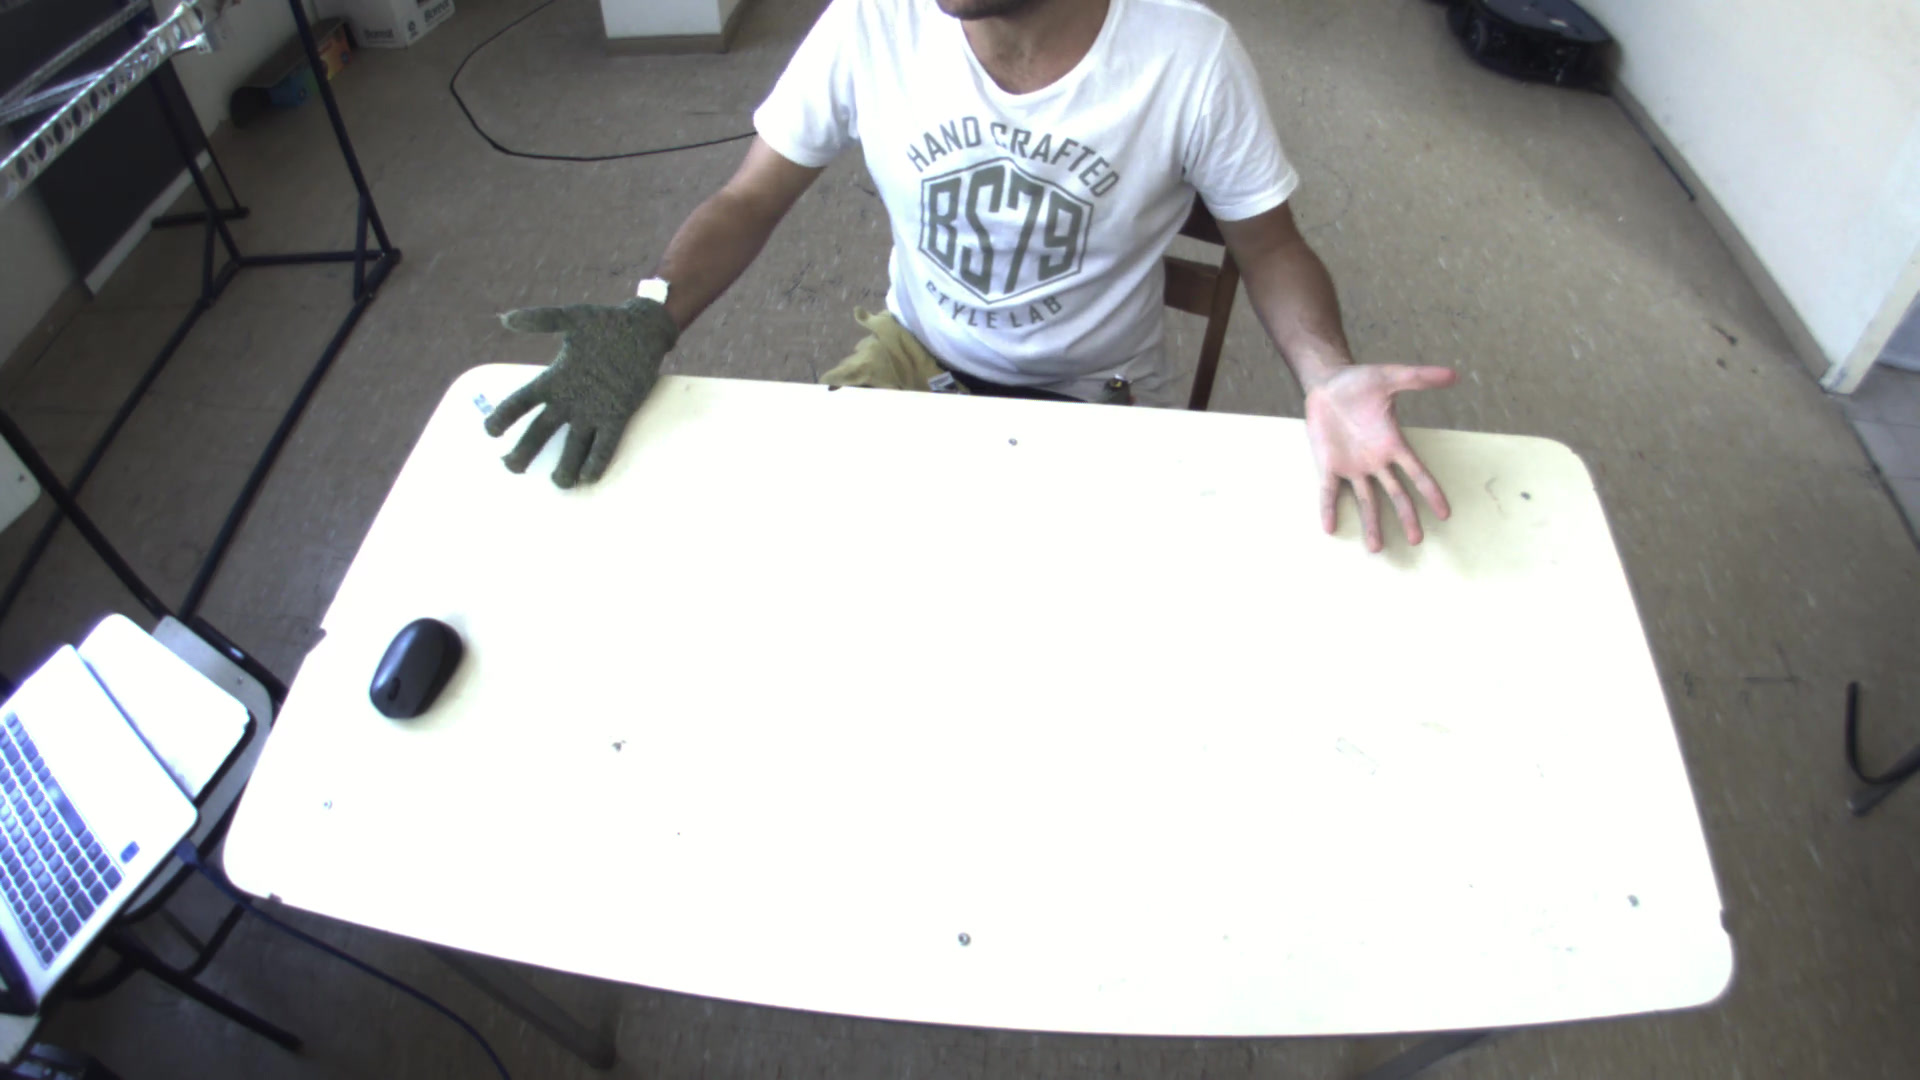hand: (458, 287, 682, 495), (1294, 345, 1482, 564)
